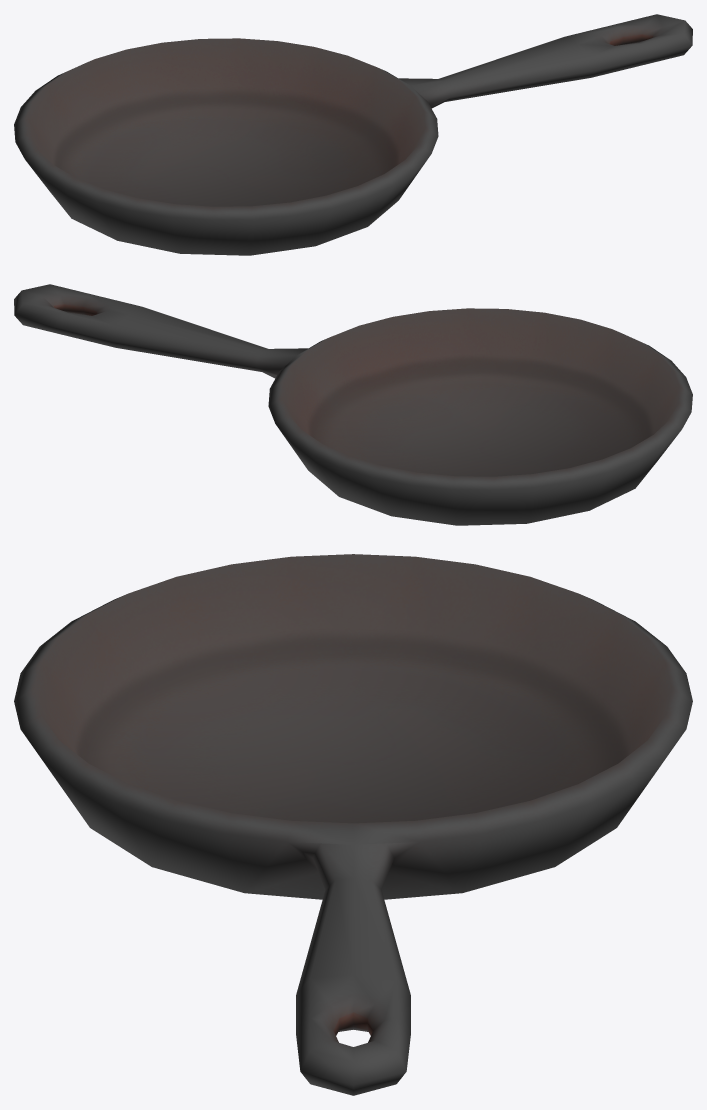
File: FryingPan.fbx
3 renders of one model, top to bottom at view 1: azimuth 30°, elevation 25°; view 2: azimuth 150°, elevation 25°; view 3: azimuth 270°, elevation 25°, orthographic. The views are drawn at different scales.
Parts seen in each view (by area): view 1: Circle; view 2: Circle; view 3: Circle.
Part boxes in pixels (x1,y1,x2,y2): Circle: (14, 14, 692, 255); Circle: (14, 284, 692, 525); Circle: (14, 554, 692, 1095).
Size of the model in its own units: 417 by 35.7 by 236.
